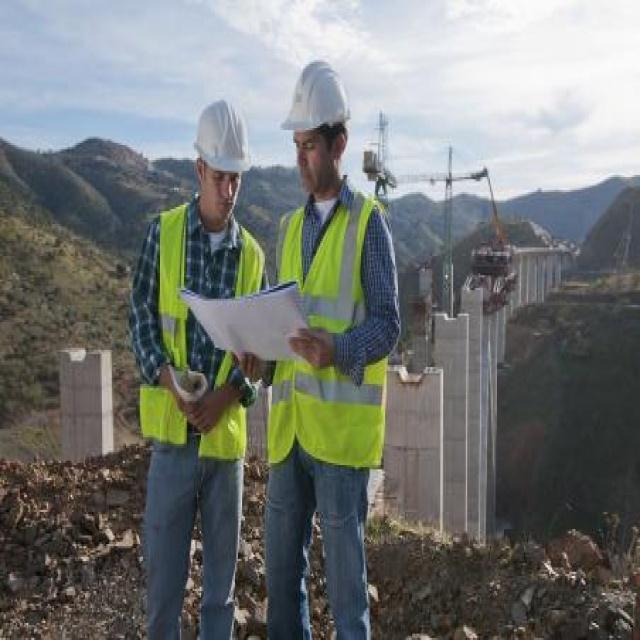helmet: (285, 73, 360, 275), (192, 124, 252, 309)
vest: (273, 272, 392, 631), (138, 275, 256, 605)
